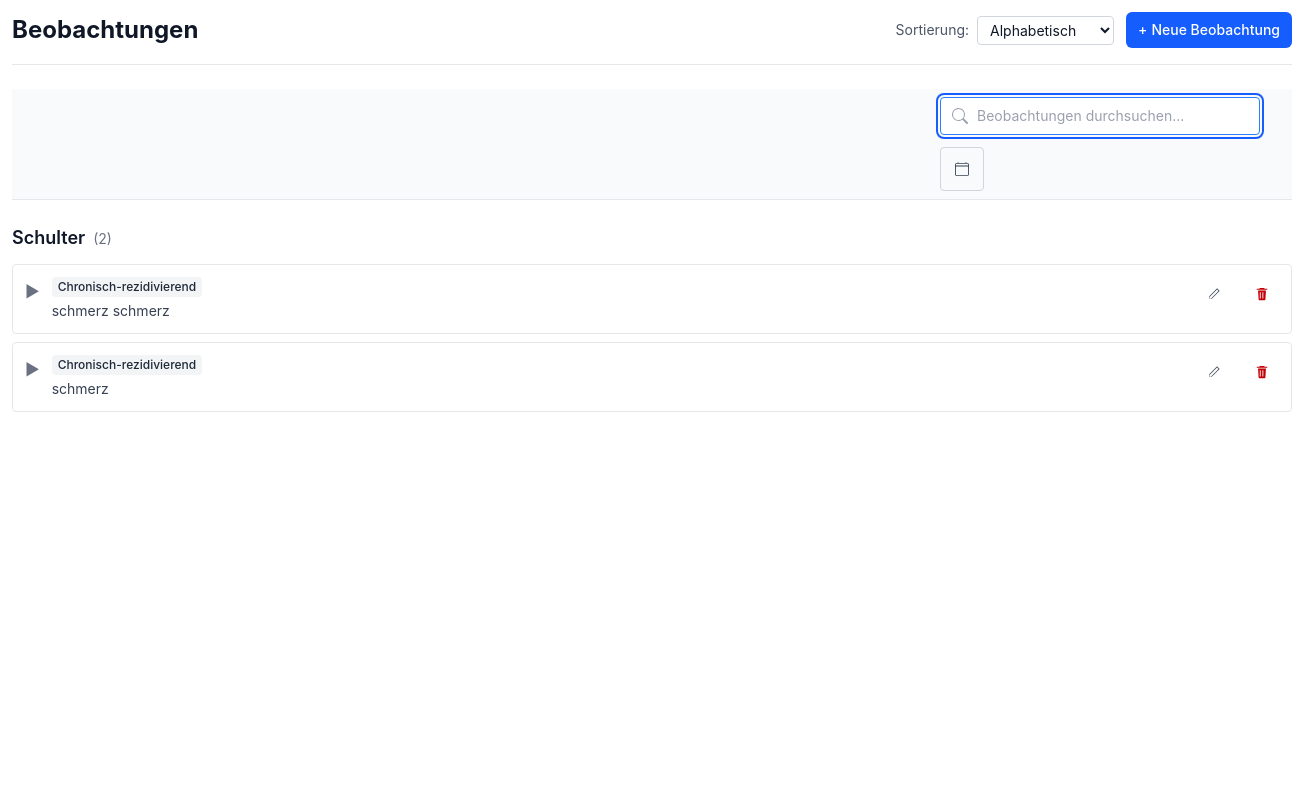
Test: ObservationsView › search (O-17) › renders Up/Down nav buttons only when match count is 2 or more
In the search field: (1100, 116) x1=940 y1=97 x2=1260 y2=135, type "schmerz"
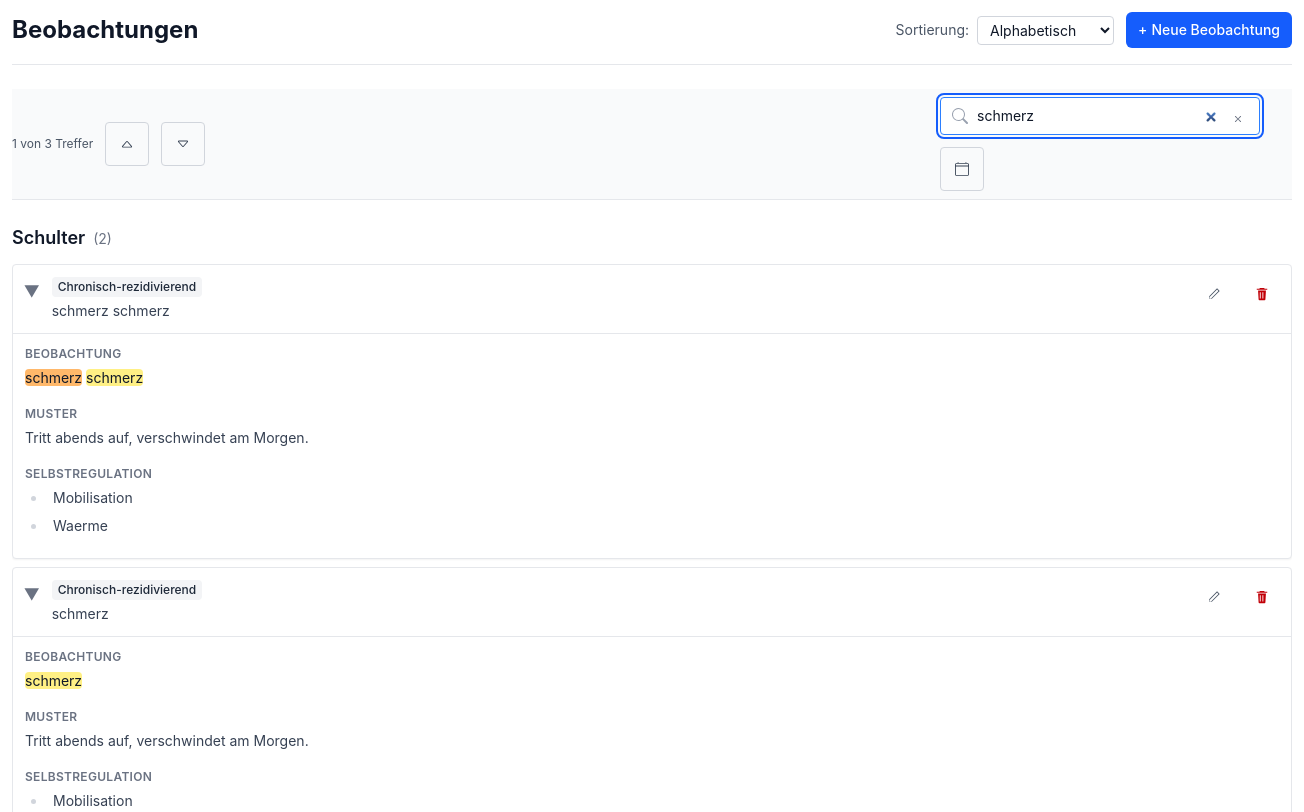
Check: the message with test id "search-match-count" reads "1 von 3 Treffer", box x1=12 y1=136 x2=93 y2=151
Check: the button with test id "search-prev" is shown, box x1=105 y1=122 x2=149 y2=166
Check: the button with test id "search-next" is shown, box x1=161 y1=122 x2=205 y2=166
